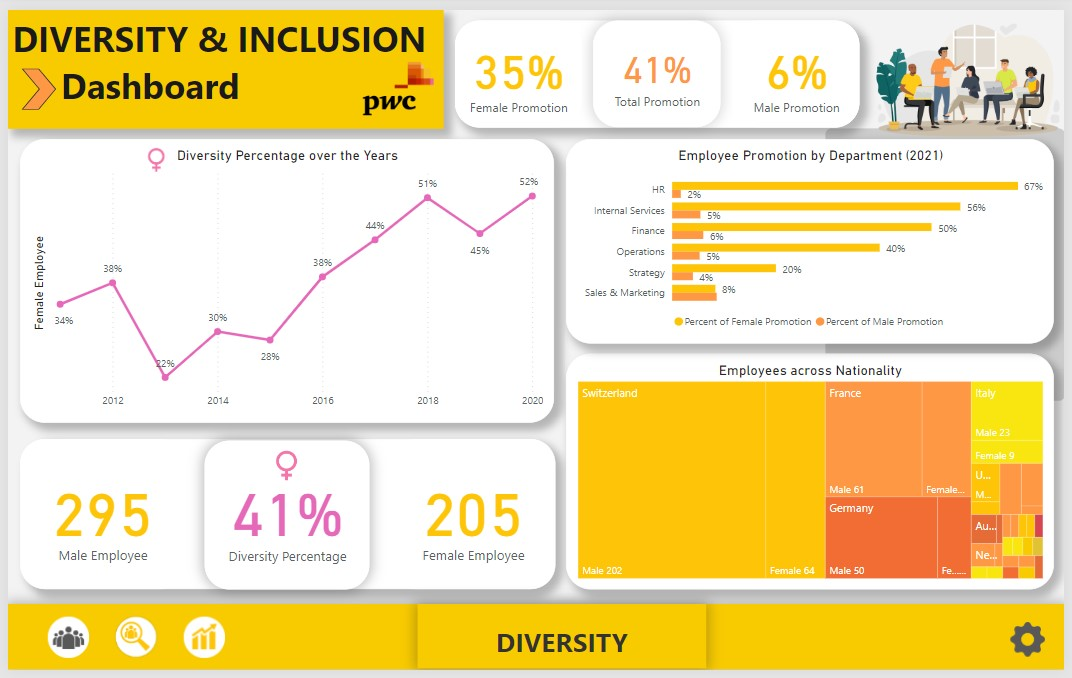

The page's visual inventory and layout, read from the dashboard file:
{"tool":"powerbi","page":{"name":"Diversity","canvas":[1280,800],"ordinal":0},"visuals":[{"type":"shape","box":[16,520,646,182],"z":0},{"type":"shape","box":[990,144,290,330],"z":1000},{"type":"textbox","box":[0,0,528,144],"z":2000},{"type":"shape","box":[542,12,490,130],"z":3000},{"type":"card","fields":{"Values":["Pharma Group AG.Female %"]},"box":[237.3,520.9,200,180.9],"z":4000},{"type":"lineChart","title":"Diversity Percentage over the Years","fields":{"Category":["Pharma Group AG.Last hire date.Variation.Date Hierarchy.Year"],"Y":["Pharma Group AG.Female %"]},"box":[14.3,155.7,647.1,344.3],"z":5000},{"type":"card","fields":{"Values":["Pharma Group AG.Count Female Employees"]},"box":[462.7,520,200,181.8],"z":6000},{"type":"card","fields":{"Values":["Pharma Group AG.Count Male Employees"]},"box":[14.2,520,200,181.7],"z":7000},{"type":"card","fields":{"Values":["Pharma Group AG.Percent of Employees Promoted"]},"box":[709.3,12.7,154.7,129.3],"z":8000},{"type":"image","box":[404,20,138,150],"z":9000},{"type":"shape","box":[16.7,70,42.2,50],"z":10000},{"type":"treemap","title":"Employees across Nationality","fields":{"Group":["Backing 1.Nationality"],"Details":["Backing 1.GENDER"],"Values":["CountNonNull(Backing 1.Employee ID)"]},"box":[676,416,591.3,286],"z":11000},{"type":"textbox","box":[0,720.5,1280.4,79.5],"z":12000},{"type":"clusteredBarChart","title":"Employee Promotion by Department (2021)","fields":{"Category":["Backing 1.FUNCTION"],"Y":["Pharma Group AG.Percent of Female Promotion in 21","Pharma Group AG.Percent of Male Promotion in 21"]},"box":[676,156,591.3,248],"z":13000},{"type":"card","fields":{"Values":["Pharma Group AG.Percent of Male Promotion in 21"]},"box":[878,12.7,154,129.3],"z":14000},{"type":"card","fields":{"Values":["Pharma Group AG.Percent of Female Promotion in 21"]},"box":[542,12.7,153.3,129.3],"z":15000},{"type":"image","box":[313,521,50,60],"z":16000},{"type":"image","box":[154.4,155.6,50,50],"z":17000},{"type":"image","box":[1047.8,0,232.2,170],"z":18000},{"type":"actionButton","box":[30,720,84,80],"z":19000},{"type":"actionButton","box":[112.5,720,83.8,80],"z":20000},{"type":"actionButton","box":[196.2,720,83.8,80],"z":21000},{"type":"actionButton","title":"Settings","box":[1211,734,50,57],"z":22000},{"type":"textbox","box":[496,720,350,78],"z":22500}]}

Visuals, with their boxes in screenshot pixels (x1, y1, x2, y2), scaled from the page's 1280x800 canvas onto the 1072x678 screenshot:
shape: 13/441/554/595
shape: 829/122/1071/402
textbox: 0/0/442/122
shape: 454/10/864/120
card - Pharma Group AG.Female %: 199/441/366/595
"Diversity Percentage over the Years" lineChart: 12/132/554/424
card - Pharma Group AG.Count Female Employees: 388/441/555/595
card - Pharma Group AG.Count Male Employees: 12/441/179/595
card - Pharma Group AG.Percent of Employees Promoted: 594/11/724/120
image: 338/17/454/144
shape: 14/59/49/102
"Employees across Nationality" treemap: 566/353/1061/595
textbox: 0/611/1071/677
"Employee Promotion by Department (2021)" clusteredBarChart: 566/132/1061/342
card - Pharma Group AG.Percent of Male Promotion in 21: 735/11/864/120
card - Pharma Group AG.Percent of Female Promotion in 21: 454/11/582/120
image: 262/442/304/492
image: 129/132/171/174
image: 878/0/1071/144
actionButton: 25/610/95/677
actionButton: 94/610/164/677
actionButton: 164/610/234/677
"Settings" actionButton: 1014/622/1056/670
textbox: 415/610/709/676
